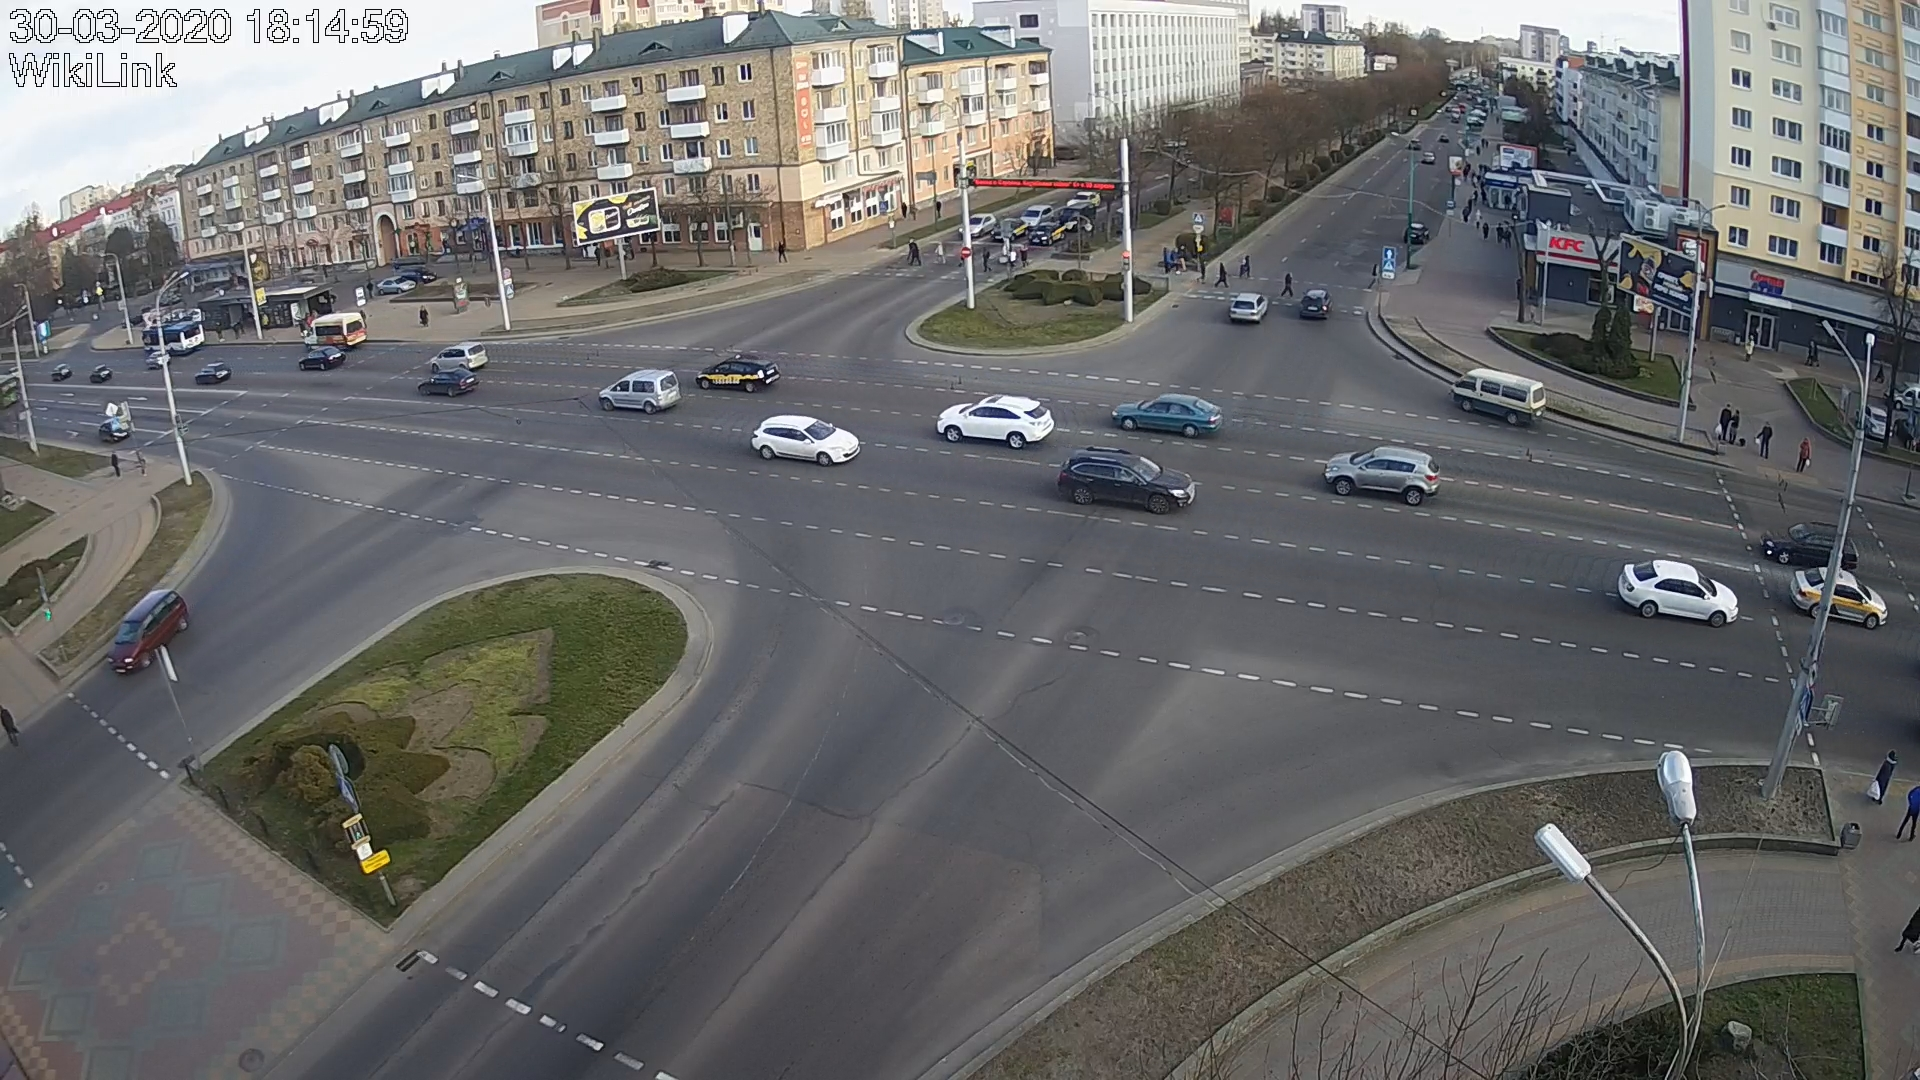car: (1058, 446, 1197, 516), (1615, 559, 1741, 628), (1325, 446, 1441, 505), (107, 589, 189, 673), (936, 394, 1055, 448), (1789, 566, 1888, 629), (750, 415, 860, 465), (1451, 368, 1547, 425), (1112, 394, 1225, 439), (1760, 522, 1859, 571), (597, 369, 682, 415), (696, 355, 781, 393), (305, 313, 368, 349), (418, 367, 480, 397), (430, 342, 488, 373), (1229, 291, 1269, 322), (299, 345, 345, 371), (1299, 287, 1335, 319), (957, 212, 996, 237), (1029, 222, 1065, 247), (990, 218, 1029, 241), (1021, 204, 1055, 228), (195, 363, 232, 384)
